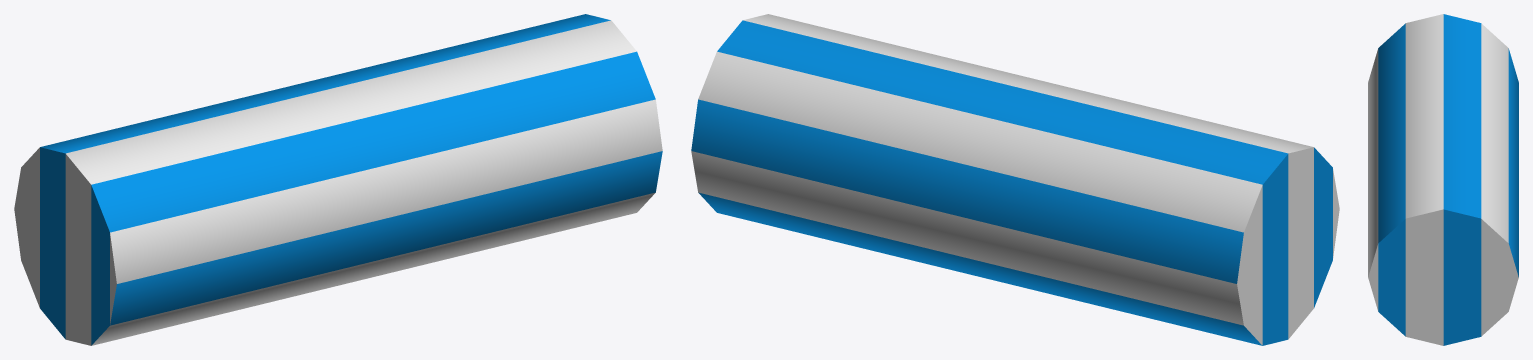
3 renders of one model, left to right at view 1: azimuth 30°, elevation 25°; view 2: azimuth 150°, elevation 25°; view 3: azimuth 270°, elevation 25°, orthographic. The views are drawn at different scales.
Visible parts, largest first — view 1: cylinder; view 2: cylinder; view 3: cylinder.
Boxes of the visible parts, <box> form: cylinder: <box>14,14,662,345</box>; cylinder: <box>691,14,1339,345</box>; cylinder: <box>1368,14,1518,345</box>.
Size of the model in its own units: 2.54 by 0.8278 by 0.8278.
